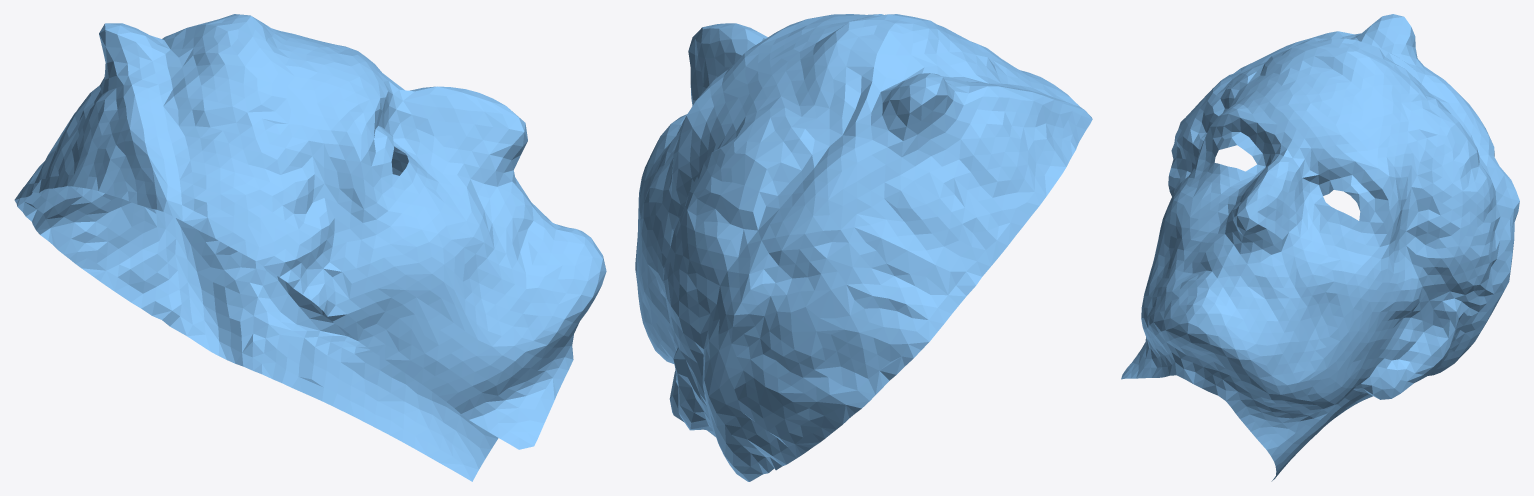
The model's file is ceasar.glb.
3 renders of one model, left to right at view 1: azimuth 30°, elevation 25°; view 2: azimuth 150°, elevation 25°; view 3: azimuth 270°, elevation 25°, orthographic. The views are drawn at different scales.
Parts seen in each view (by area): view 1: ceasarmask001; view 2: ceasarmask001; view 3: ceasarmask001.
Part boxes in pixels (x1=…): ceasarmask001: x1=14, y1=14, x2=606, y2=481; ceasarmask001: x1=635, y1=14, x2=1092, y2=481; ceasarmask001: x1=1121, y1=14, x2=1519, y2=481.
Size of the model in its own units: 5.39 by 5.44 by 5.38.
